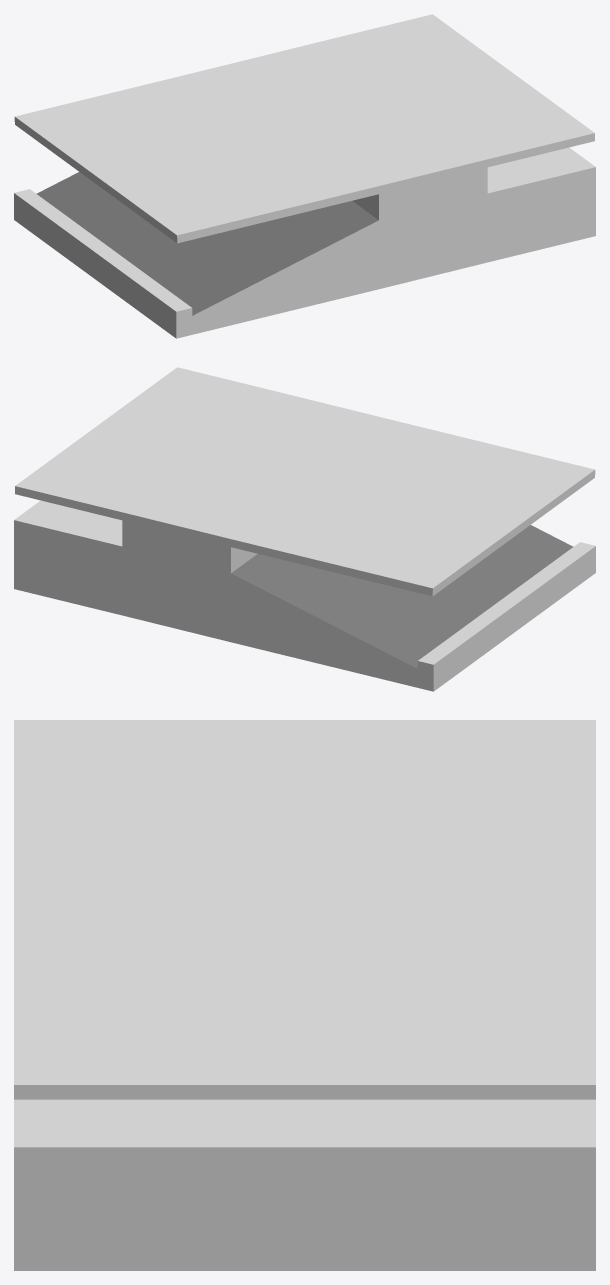
File: grand_stands.FBX
3 renders of one model, top to bottom at view 1: azimuth 30°, elevation 25°; view 2: azimuth 150°, elevation 25°; view 3: azimuth 270°, elevation 25°, orthographic. The views are drawn at different scales.
Parts seen in each view (by area): view 1: Box003; view 2: Box003; view 3: Box003.
Part boxes in pixels (x1,y1,x2,y2): Box003: (14,14,595,338); Box003: (14,367,595,691); Box003: (14,720,595,1270).
Bounding box in the file's own units: 321 × 75.63 × 215.
Materials: 1 (1 with a texture image).
